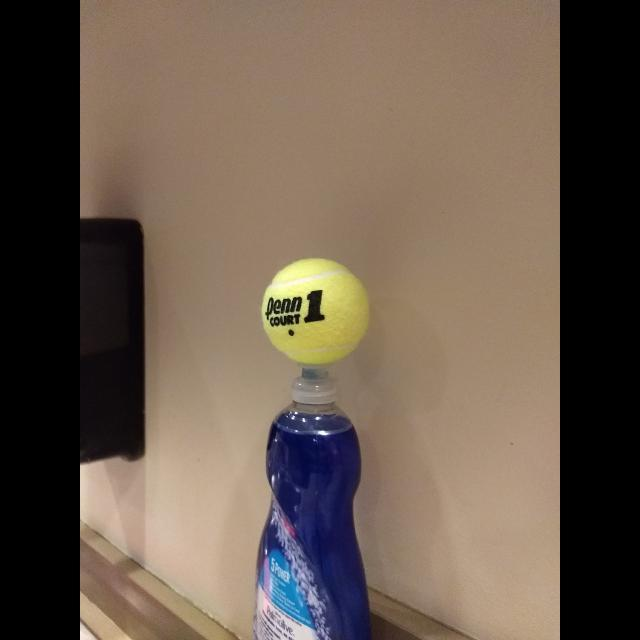tennis-ball: (263, 257, 372, 365)
